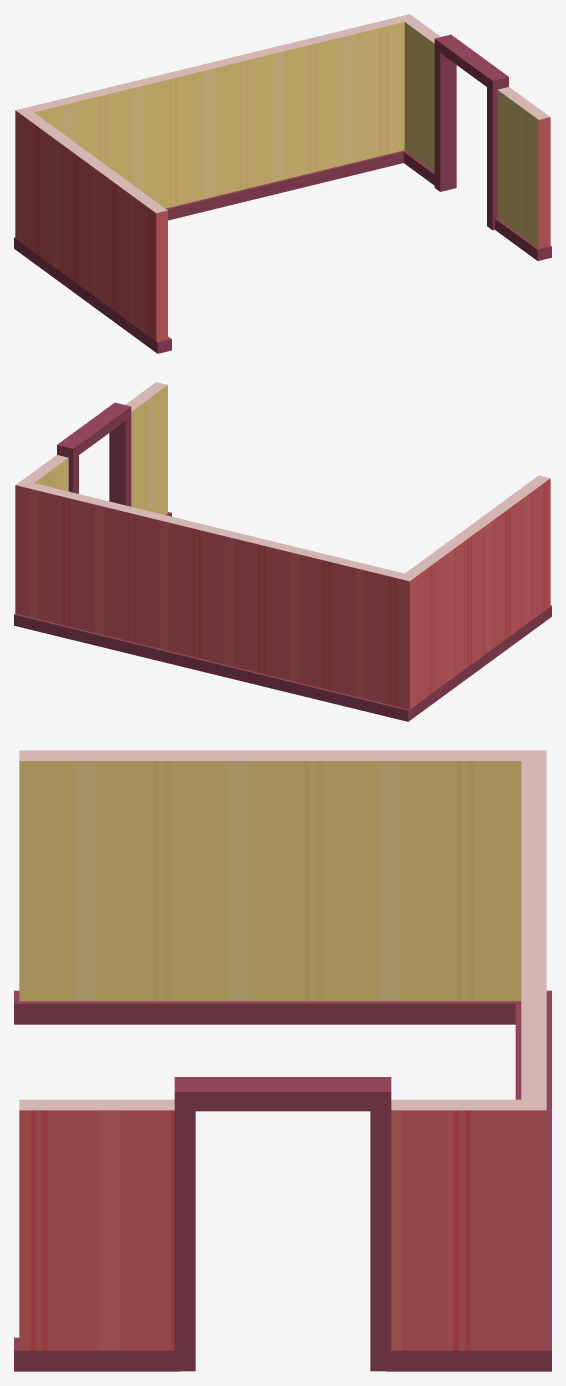
File: Room01_Wall_XO_geo.fbx
3 views of the same model, one above another, from view 1: azimuth 30°, elevation 25°; view 2: azimuth 150°, elevation 25°; view 3: azimuth 270°, elevation 25° (orthographic). The views are drawn at different scales.
Visible parts, largest first — view 1: Room01_Wall_XO_geo; view 2: Room01_Wall_XO_geo; view 3: Room01_Wall_XO_geo.
Part boxes in pixels (x1,y1,x2,y2): Room01_Wall_XO_geo: [14, 14, 551, 353]; Room01_Wall_XO_geo: [14, 382, 551, 721]; Room01_Wall_XO_geo: [14, 750, 551, 1371].
Bounding box in the file's own units: 6.03 × 3.81 × 2.18.
